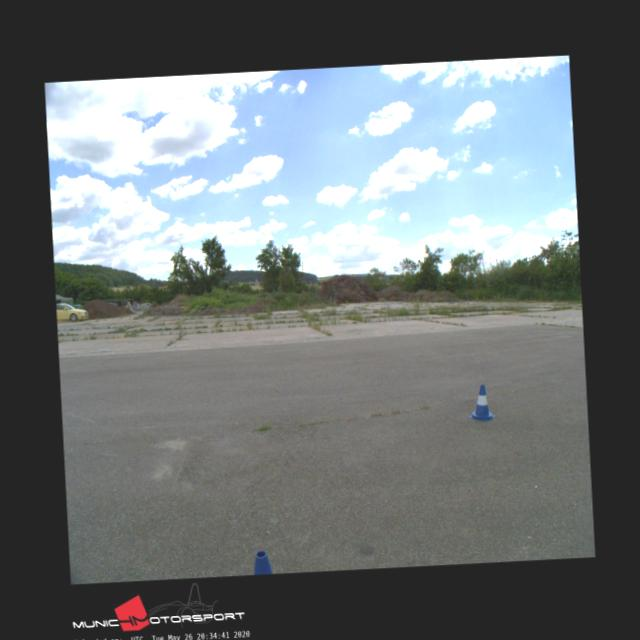blue_cone: (467, 384, 495, 422)
